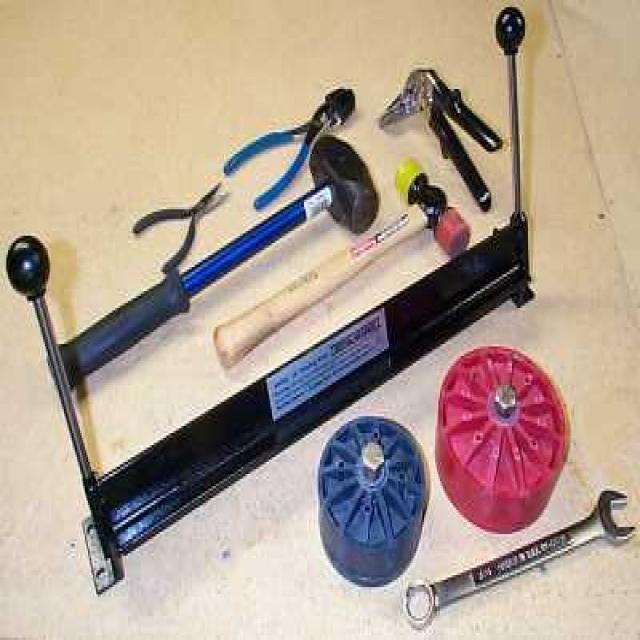hammer: (58, 122, 390, 376), (200, 147, 480, 372)
pliers: (225, 70, 368, 210), (114, 170, 235, 280)
wrench: (390, 481, 640, 640)
